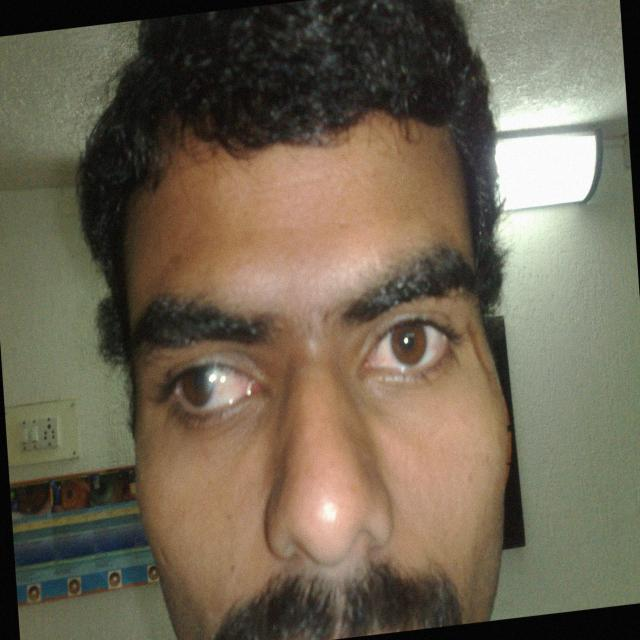Healthy-Eye: (350, 300, 470, 395)
Squint: (152, 334, 269, 445)
